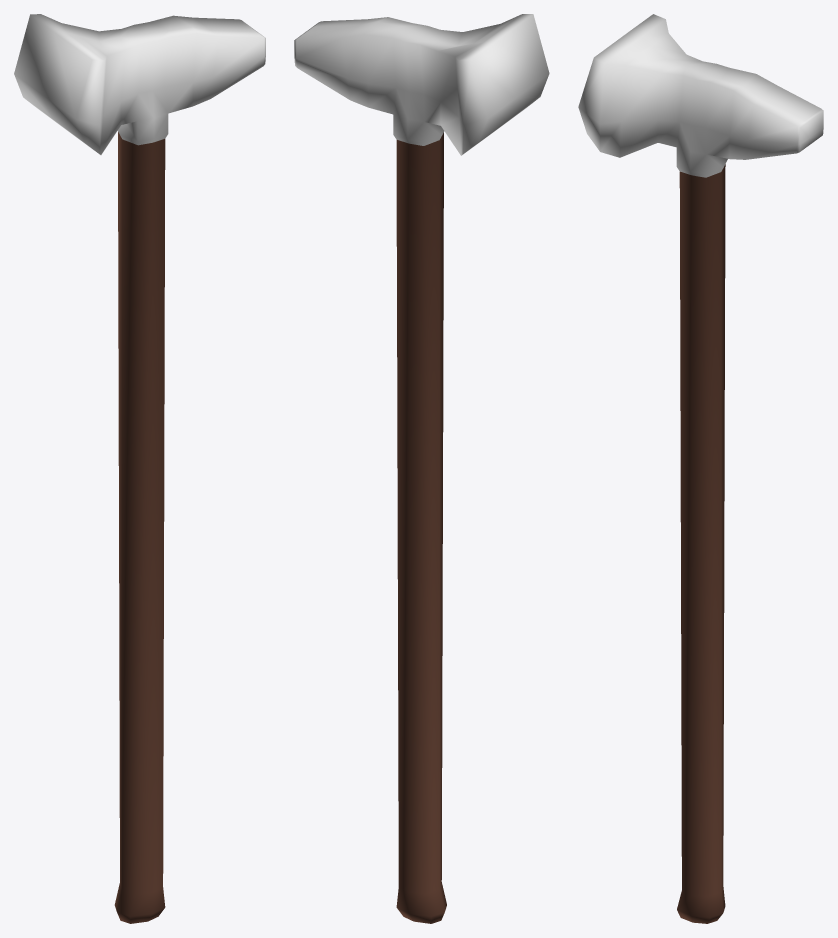
Rendered from Hammer Medium.fbx.
The picture shows the model from 3 angles, left to right: view 1: azimuth 30°, elevation 25°; view 2: azimuth 150°, elevation 25°; view 3: azimuth 330°, elevation 25°; orthographic projection. The views are drawn at different scales.
Parts seen in each view (by area): view 1: Warhammer.002; view 2: Warhammer.002; view 3: Warhammer.002.
Part boxes in pixels (box(x1,y1,x2,y2)): Warhammer.002: box(14, 14, 265, 923); Warhammer.002: box(294, 14, 549, 923); Warhammer.002: box(578, 14, 823, 923).
Bounding box in the file's own units: 32.67 × 133 × 17.15.
